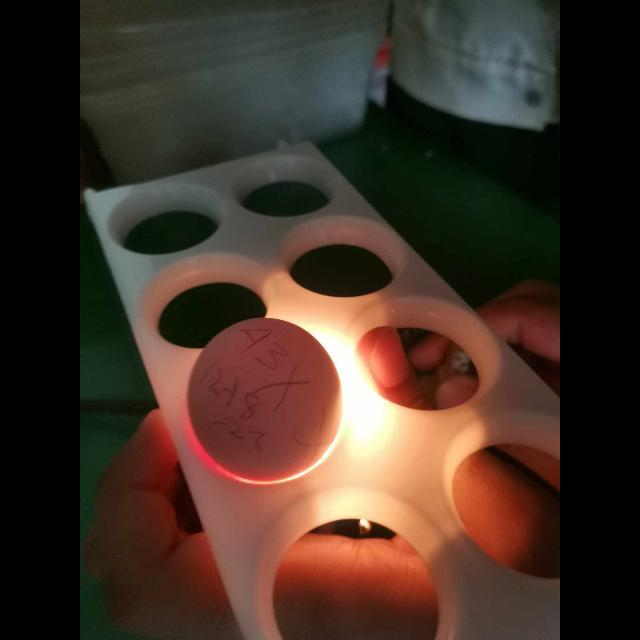Fertile: (196, 318, 346, 476)
